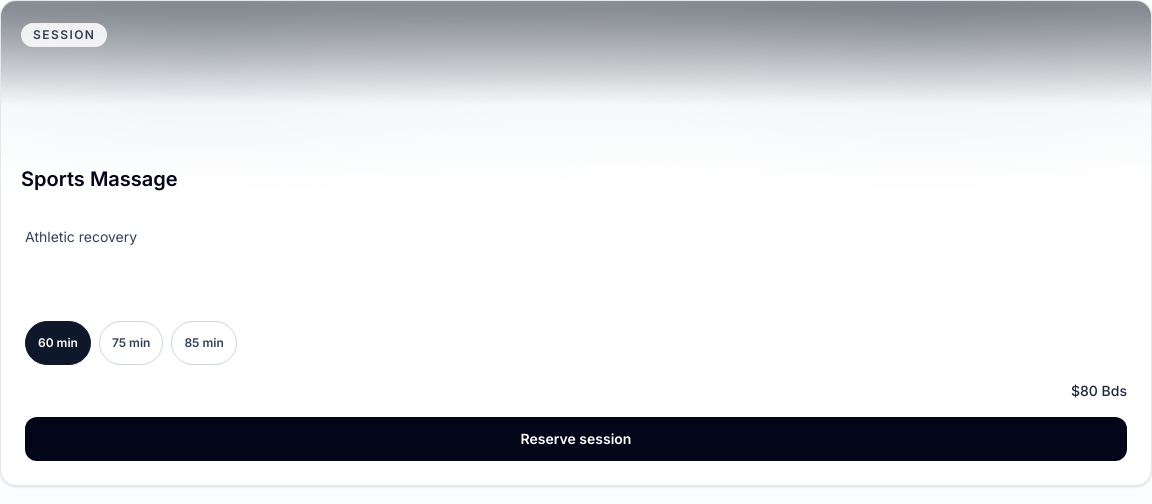
Test: ServiceCard › updates displayed duration and price when a duration badge is selected
Check: the text with test id "service-price" reads "$80 Bds", box top-left (1071, 381), bottom-right (1127, 401)
Click the button "75 min".
click(131, 343)  # box top-left (99, 321), bottom-right (163, 365)
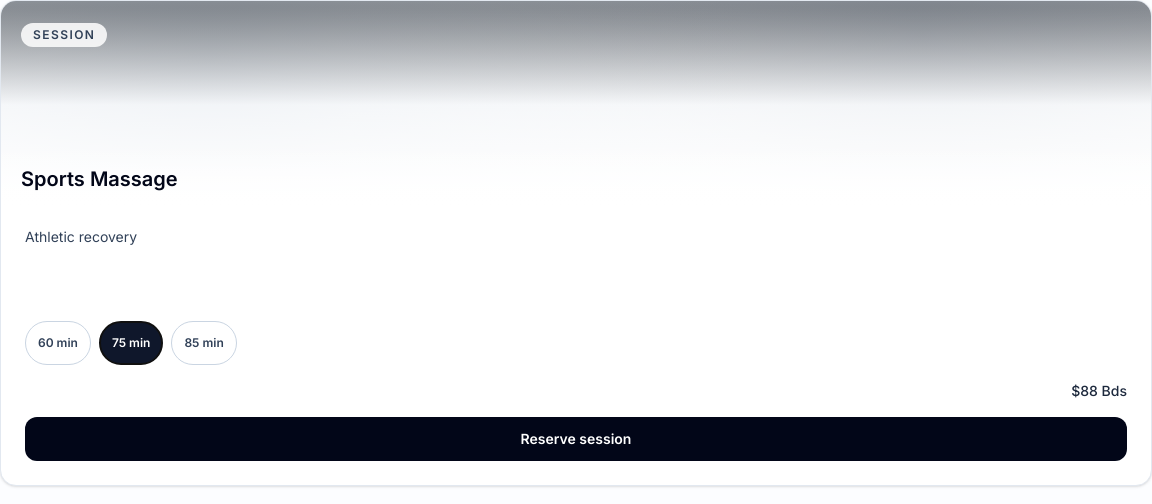
Check: the text with test id "service-price" reads "$88 Bds", box top-left (1071, 381), bottom-right (1127, 401)
